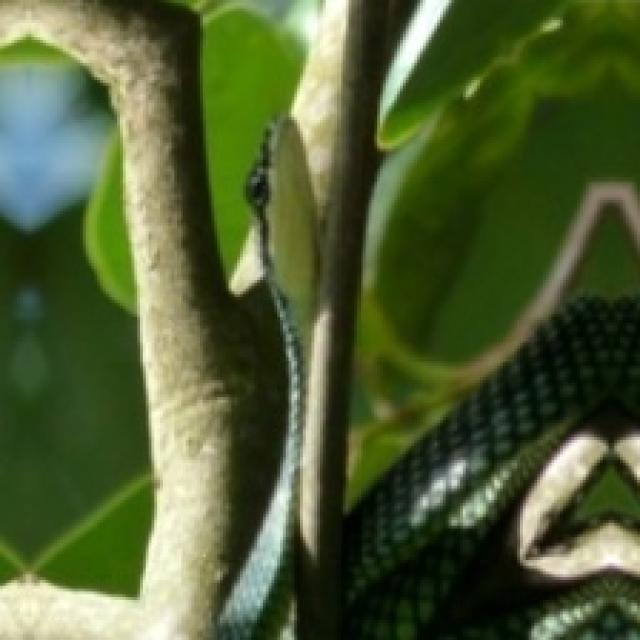paradise tree snake: (346, 206, 637, 637), (219, 116, 319, 639)
